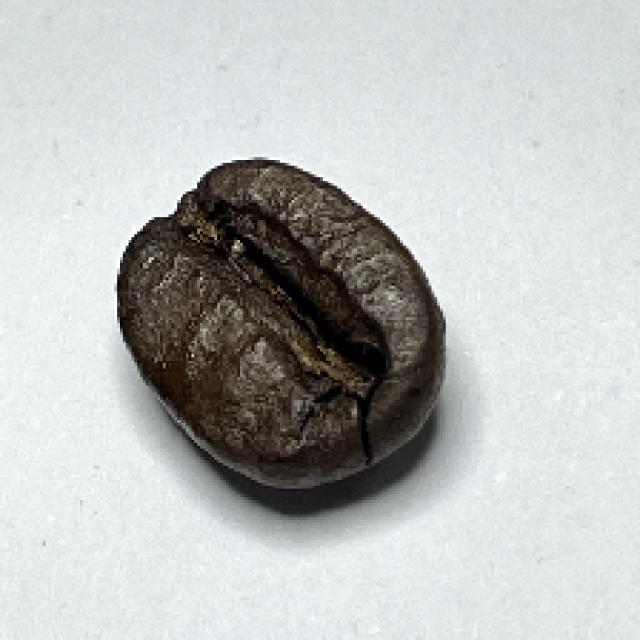bean: (113, 156, 449, 487)
